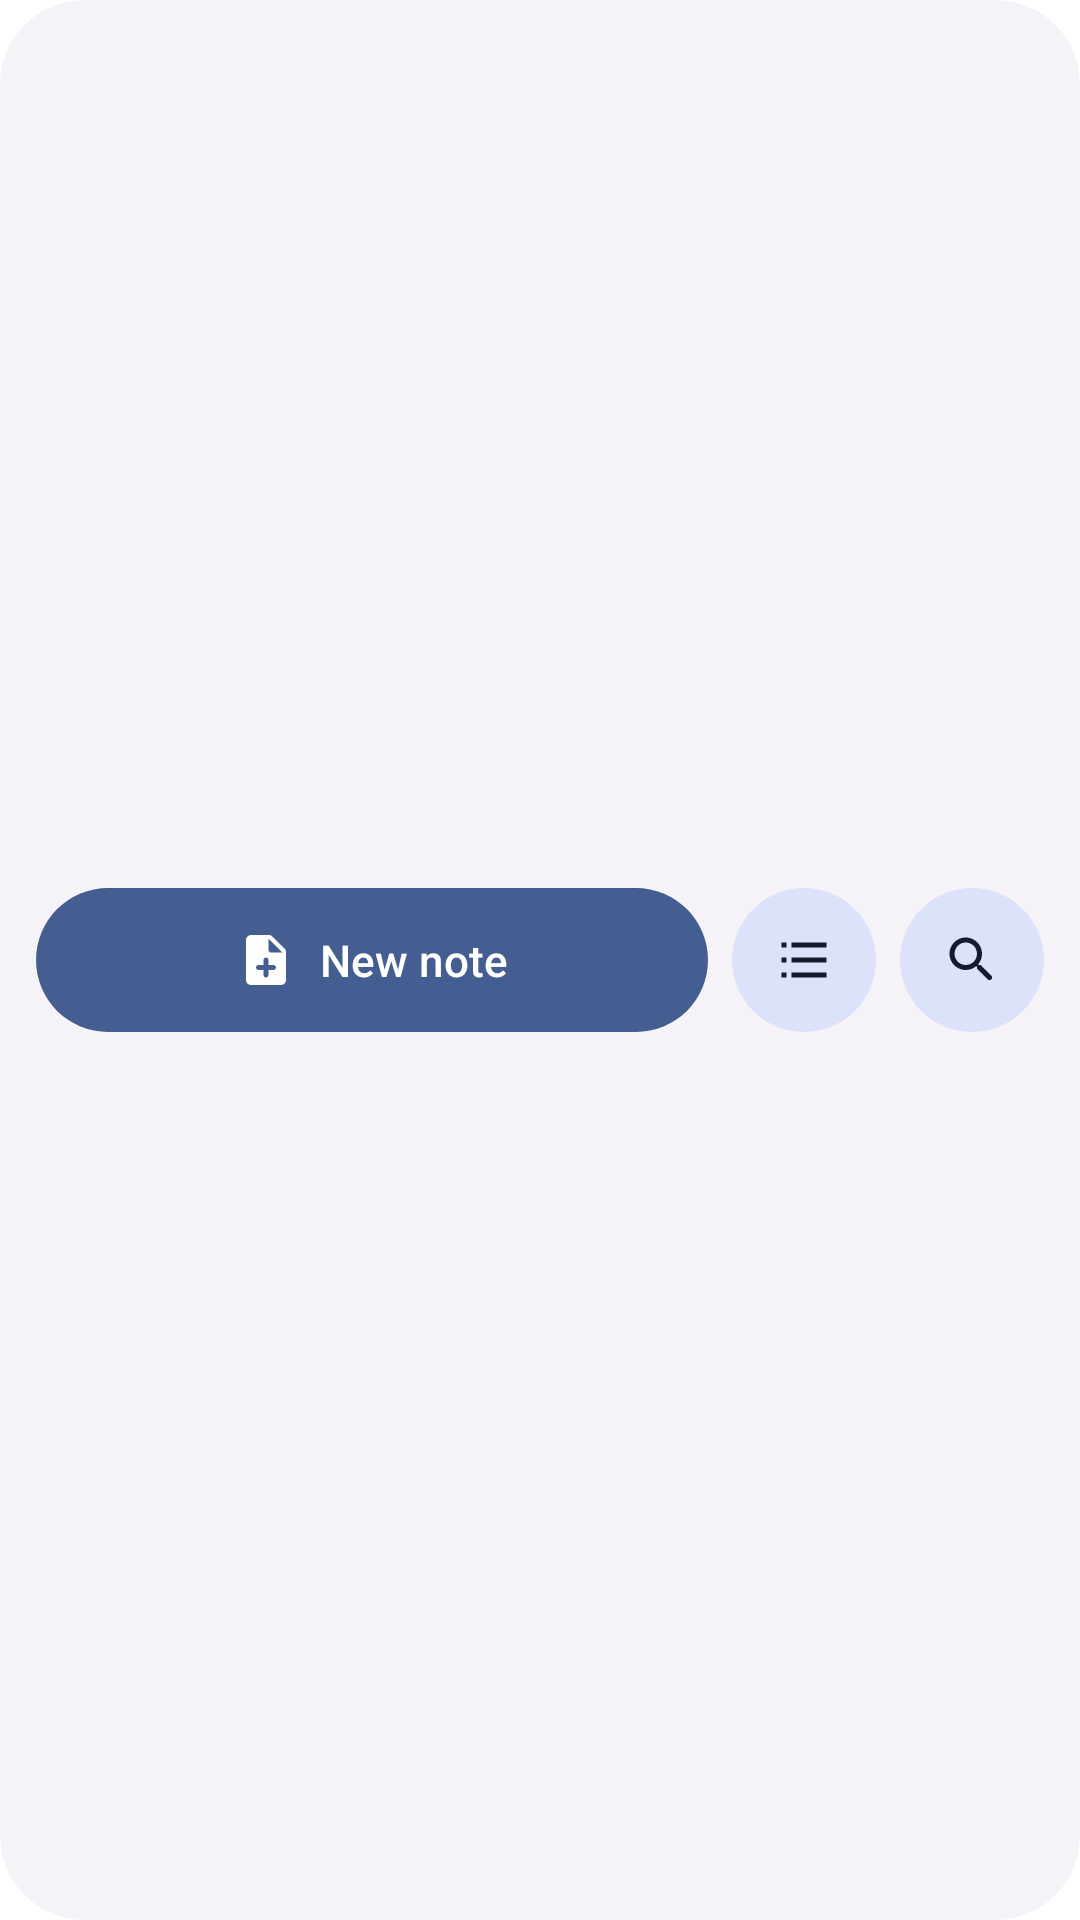

Icons on this 1080×1920 Android screen, each with the point to tap as (x,y):
New checklist: (804,960)
Search: (970,958)
